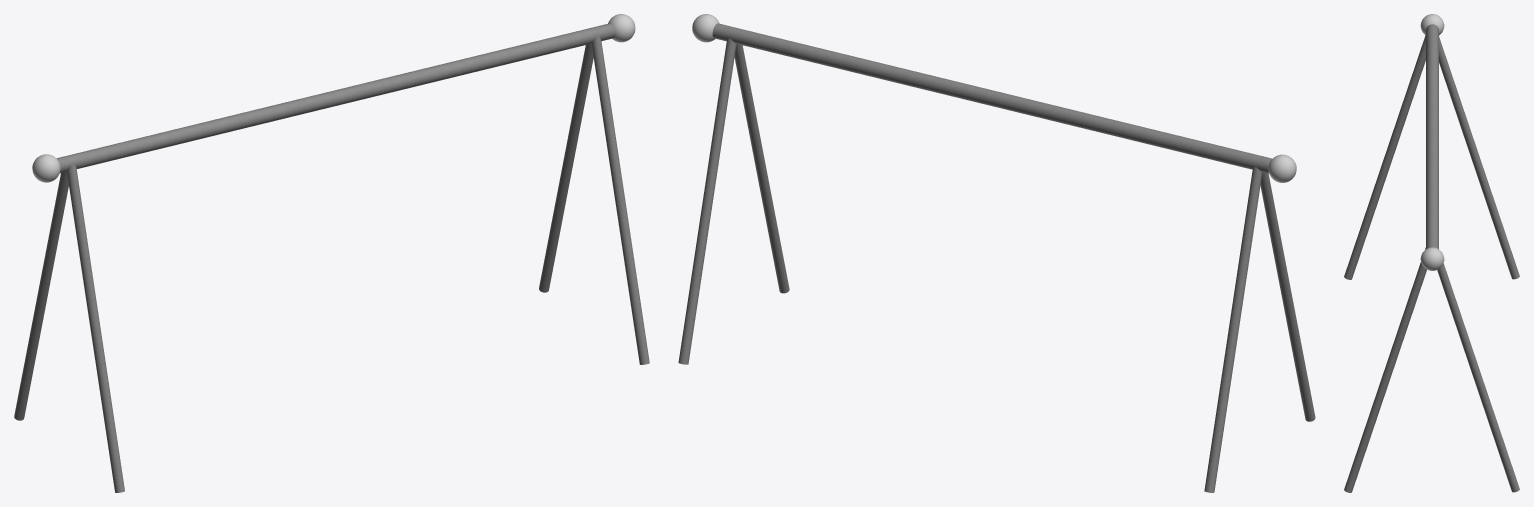
Rendered from Juego31.obj.
The picture shows the model from 3 angles, left to right: view 1: azimuth 30°, elevation 25°; view 2: azimuth 150°, elevation 25°; view 3: azimuth 270°, elevation 25°; orthographic projection. The views are drawn at different scales.
Parts seen in each view (by area): view 1: pCylinder4; view 2: pCylinder4; view 3: pCylinder4.
Boxes of the visible parts, box(x1,y1,x2,y2) form: pCylinder4: box(14, 14, 649, 492); pCylinder4: box(678, 14, 1315, 492); pCylinder4: box(1344, 14, 1519, 492).
Size of the model in its own units: 6.83 by 3.33 by 2.09.
